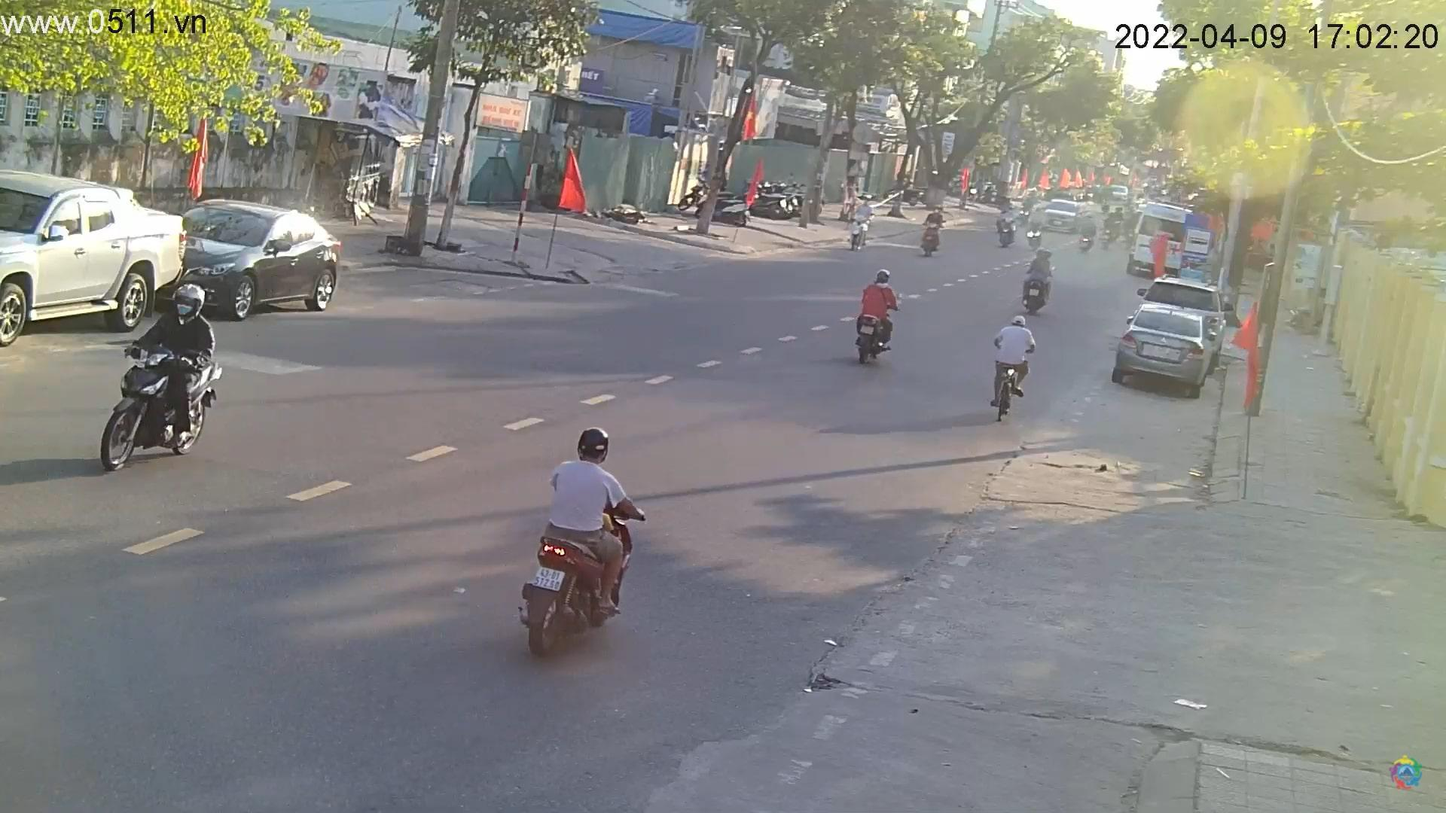car: (2, 169, 190, 350), (177, 202, 350, 322)
motorbike: (97, 290, 224, 472)
